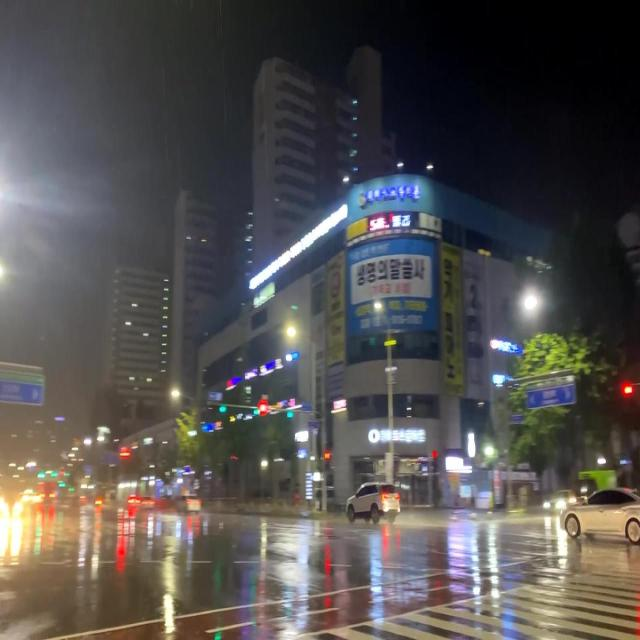Car: (558, 489, 639, 555), (343, 482, 398, 530)
